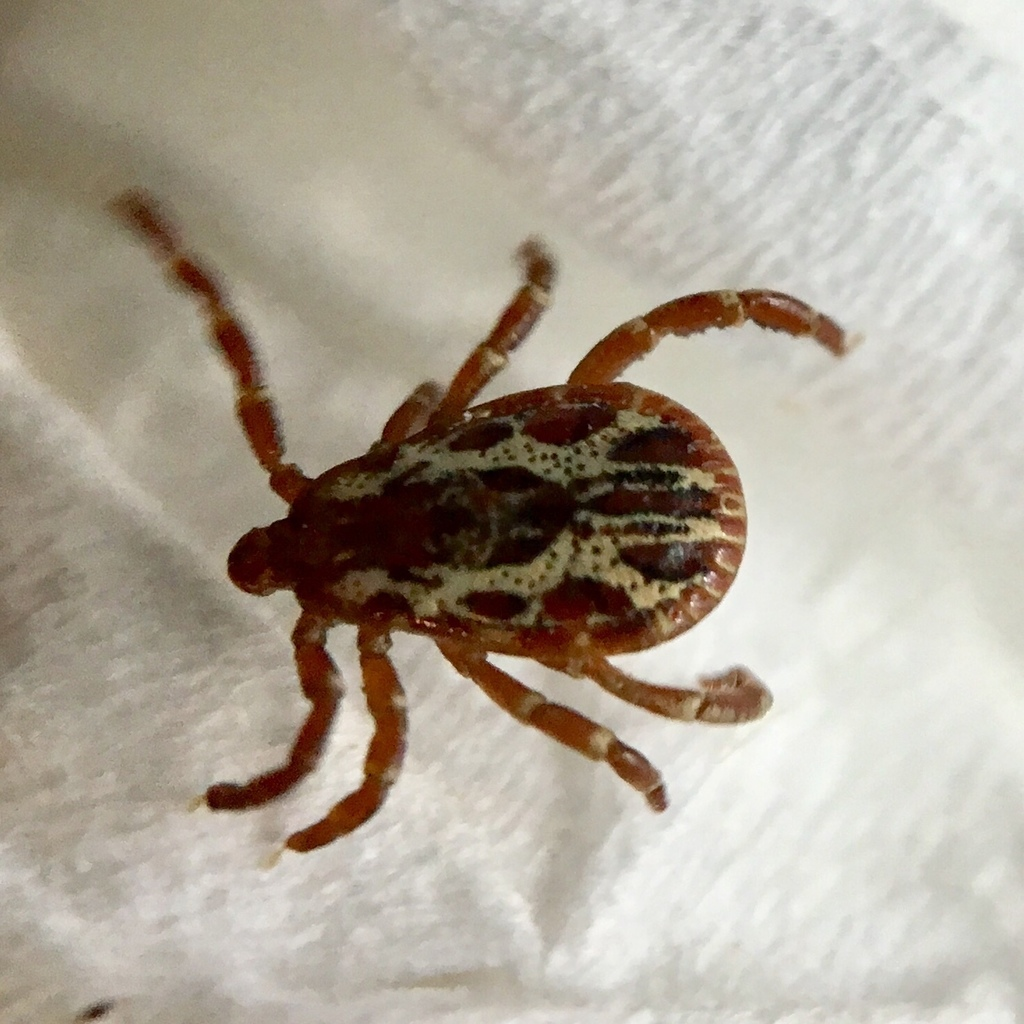garrapata: (97, 193, 885, 883)
